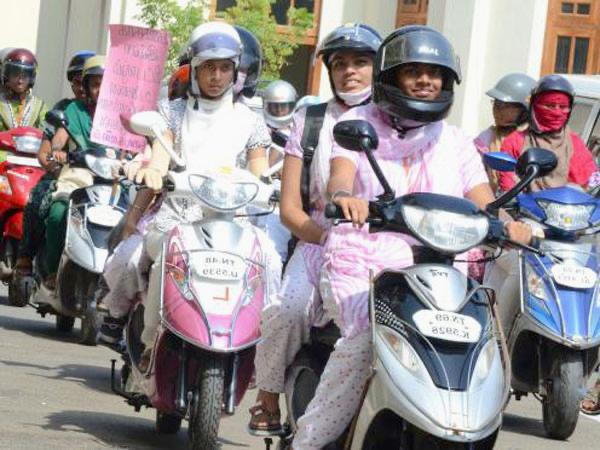With Helmet: (371, 24, 464, 122), (185, 17, 246, 102), (524, 72, 582, 140)
